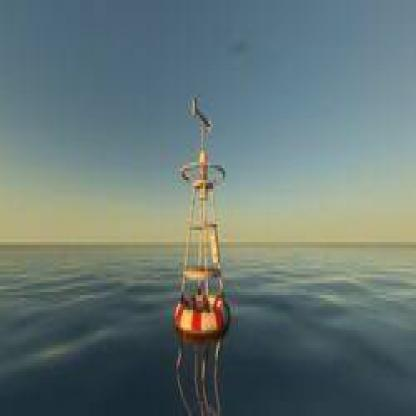buoy: (162, 80, 234, 354)
